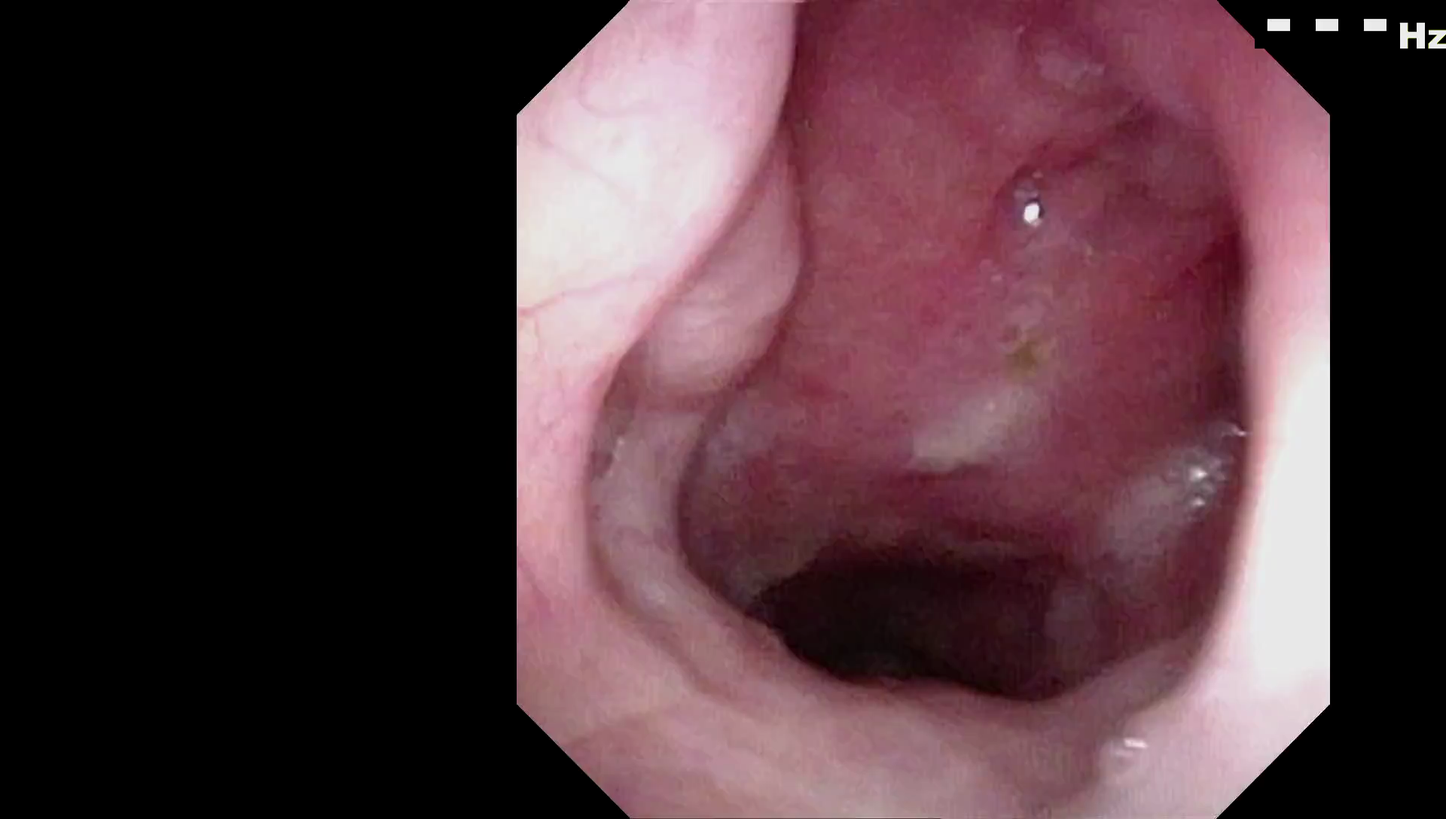close_wall: (1138, 272, 1324, 700), (535, 90, 786, 328)
next: (708, 504, 1081, 736)
